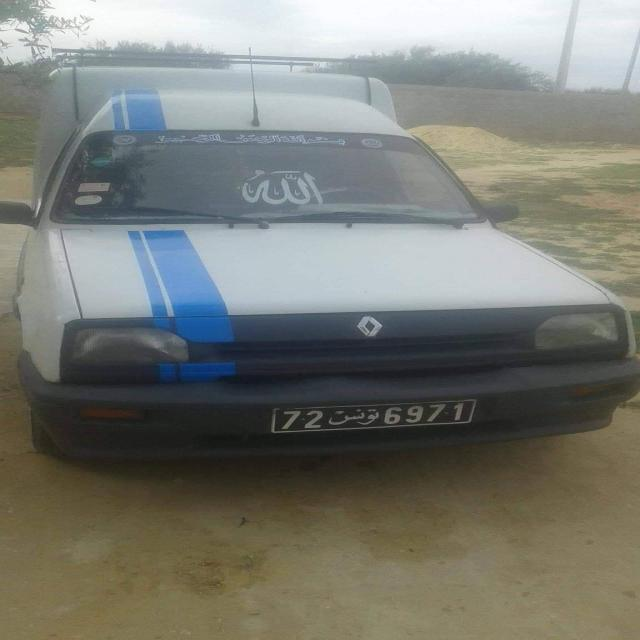LP: (268, 395, 480, 432)
